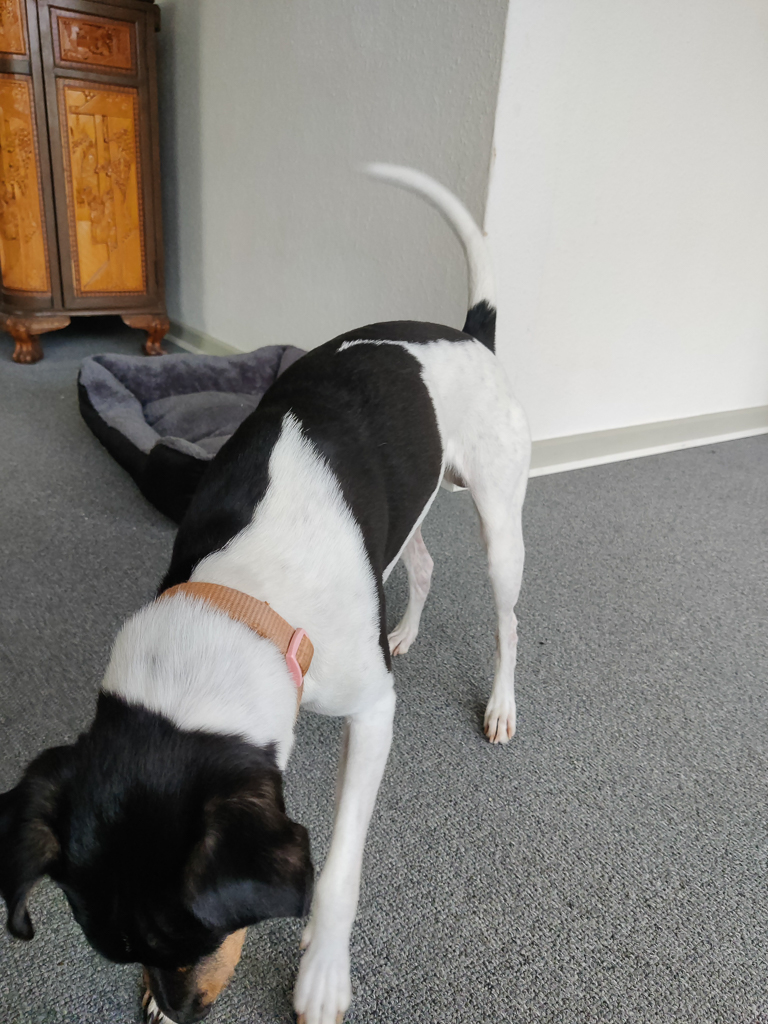Dog: (0, 149, 558, 1024)
